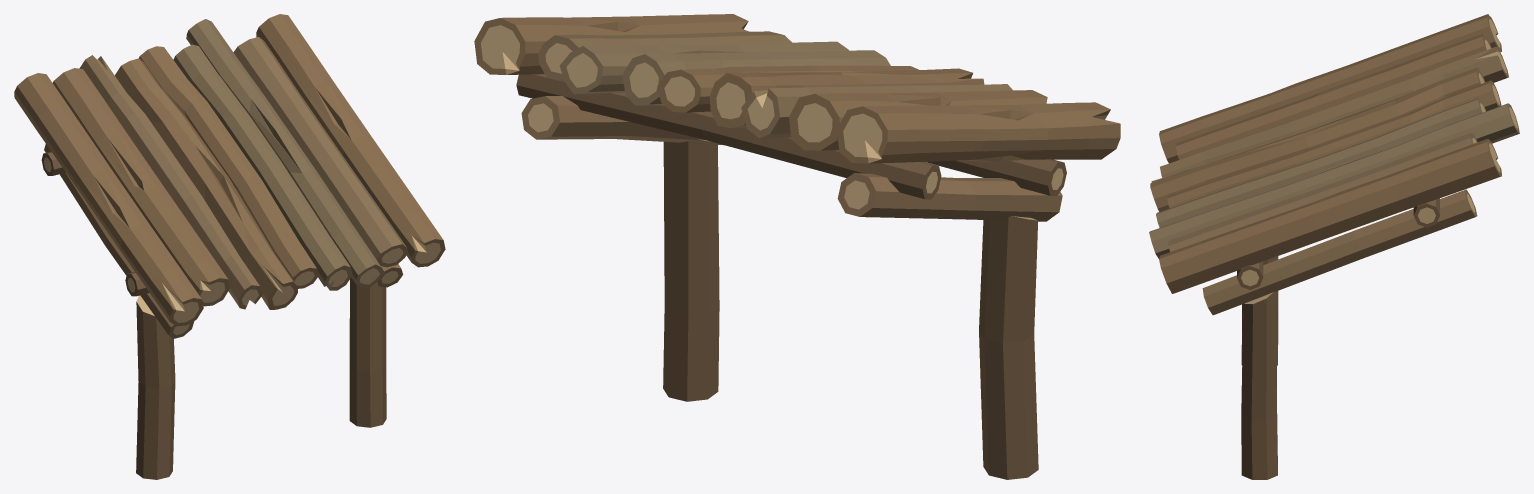
File: rpgpp_ag_shed_wood_01a.fbx
3 views of the same model, side by side, from view 1: azimuth 30°, elevation 25°; view 2: azimuth 150°, elevation 25°; view 3: azimuth 270°, elevation 25° (orthographic). The views are drawn at different scales.
Visible parts, largest first — view 1: rpgpp_ag_shed_wood_01a; view 2: rpgpp_ag_shed_wood_01a; view 3: rpgpp_ag_shed_wood_01a.
Boxes of the visible parts, box(x1,y1,x2,y2) form: rpgpp_ag_shed_wood_01a: box(14, 14, 445, 479); rpgpp_ag_shed_wood_01a: box(474, 14, 1120, 479); rpgpp_ag_shed_wood_01a: box(1149, 14, 1519, 479).
Size of the model in its own units: 3.43 by 3.87 by 3.78.
